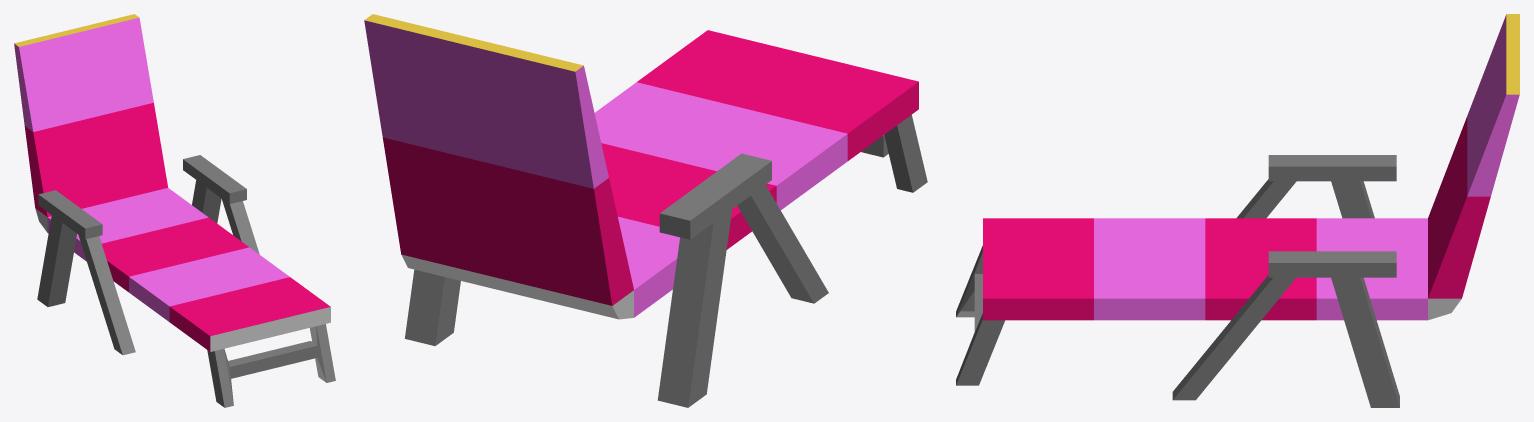
File: Espreguisadeira.fbx
The picture shows the model from 3 angles, left to right: view 1: azimuth 30°, elevation 25°; view 2: azimuth 150°, elevation 25°; view 3: azimuth 270°, elevation 25°; orthographic projection. The views are drawn at different scales.
Parts seen in each view (by area): view 1: Espreguisadeira4; view 2: Espreguisadeira4; view 3: Espreguisadeira4.
Boxes of the visible parts, x1,y1,x2,y2 form: Espreguisadeira4: (14, 14, 335, 407); Espreguisadeira4: (364, 14, 927, 407); Espreguisadeira4: (956, 14, 1519, 407).
Bounding box in the file's own units: 315 × 407 × 694.
